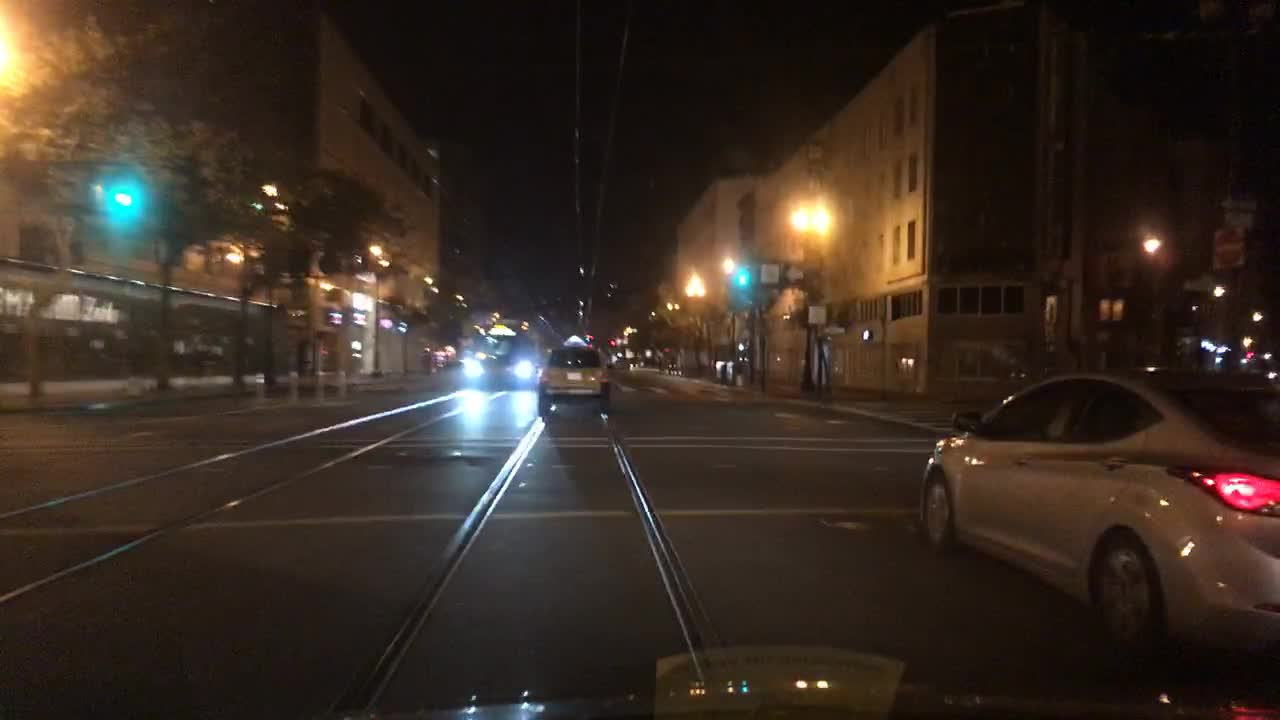car: (914, 368, 1279, 666), (533, 332, 616, 415), (459, 331, 536, 388)
person: (719, 361, 729, 381)
traffic light: (113, 175, 133, 218), (734, 261, 747, 287)
traffic sign: (1211, 228, 1243, 273), (1216, 194, 1257, 211), (1225, 207, 1252, 229), (759, 260, 778, 285), (806, 304, 827, 324)
